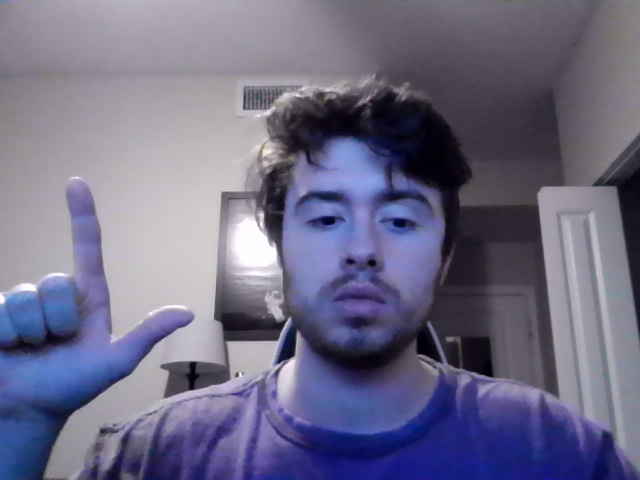l: (1, 177, 196, 431)
